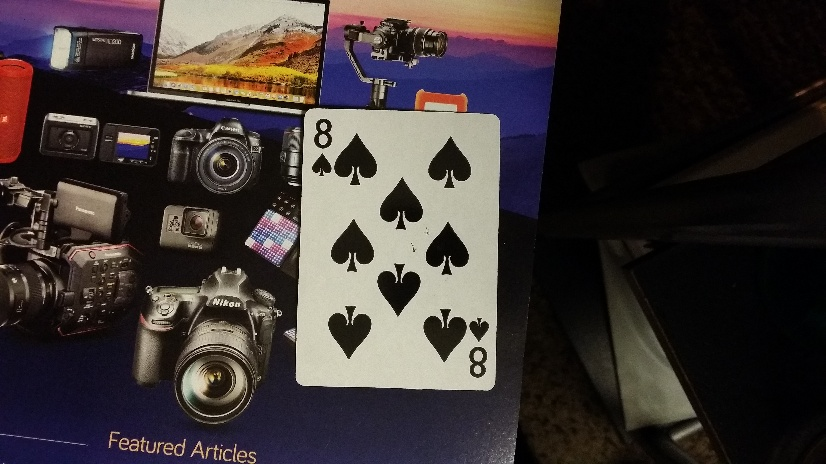S8: (468, 313, 492, 382), (311, 116, 335, 184)
